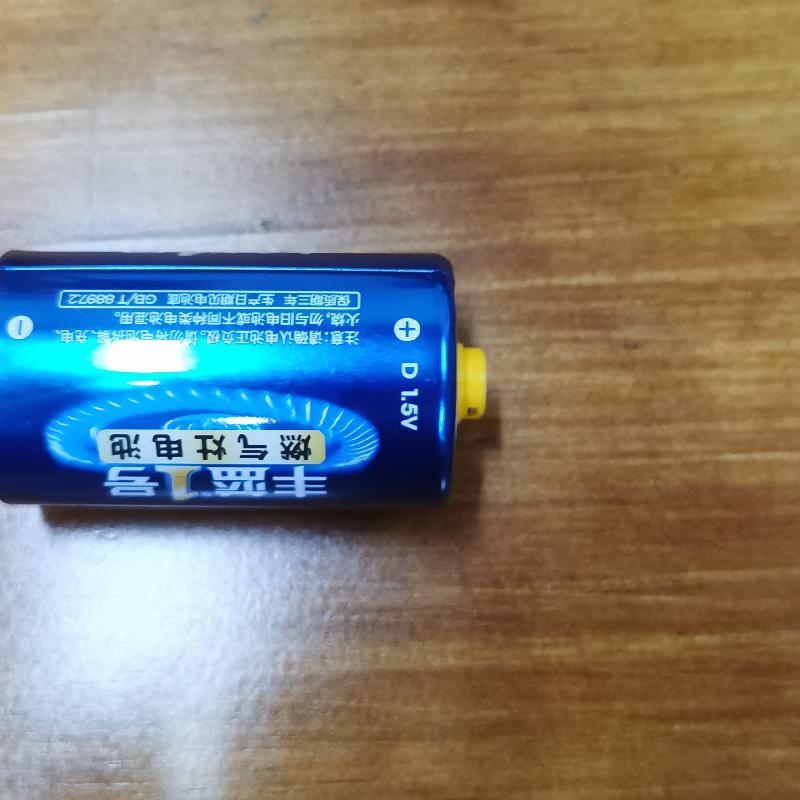battery: (5, 237, 495, 527)
